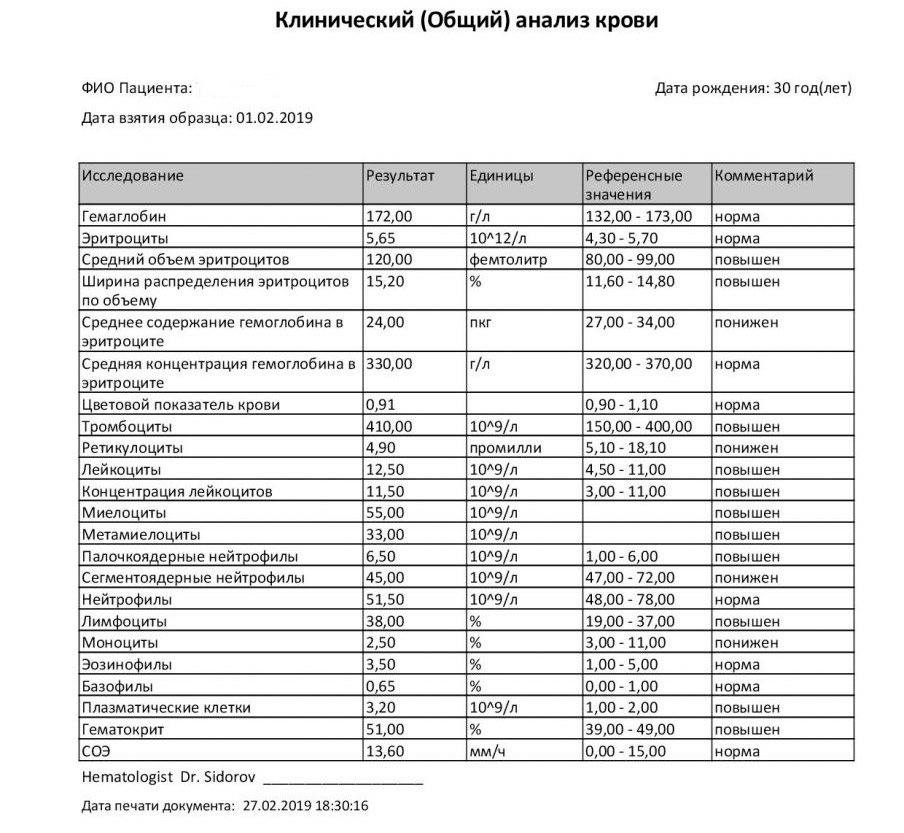column: (81, 162, 355, 760), (585, 162, 692, 760), (714, 162, 813, 760), (469, 162, 547, 760), (365, 162, 435, 760)
